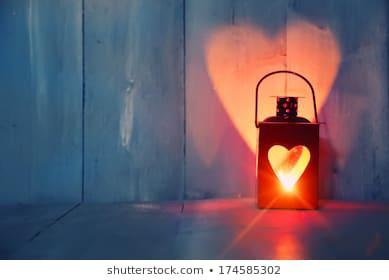fire: (265, 142, 310, 198)
